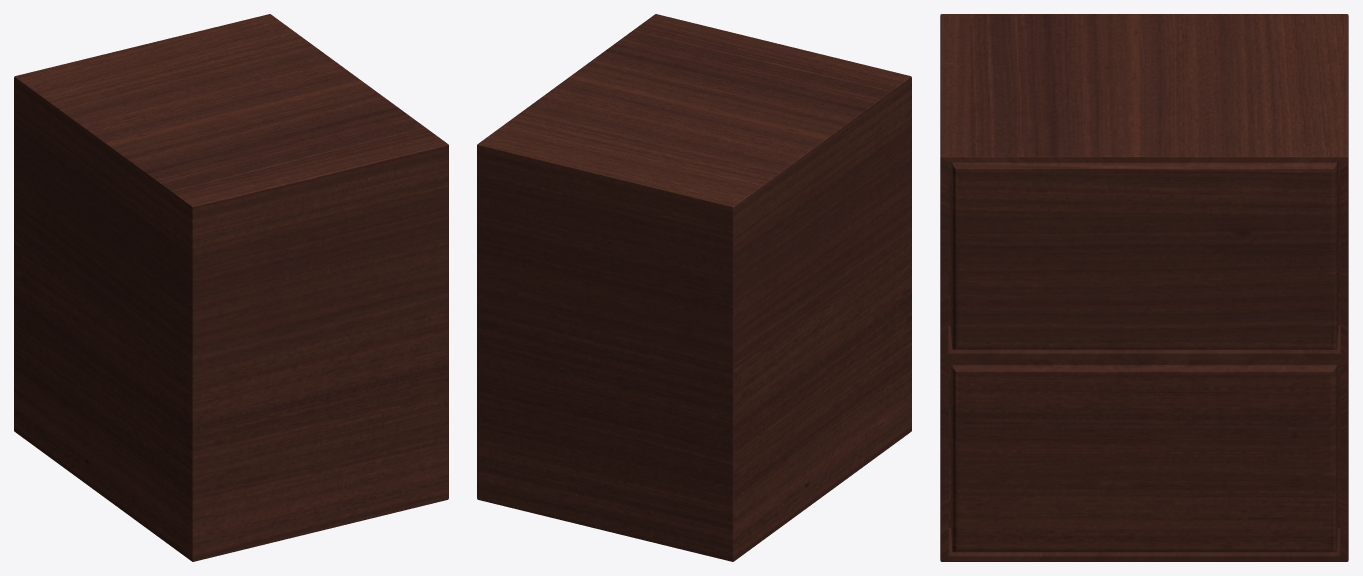
Rendered from shelf2.fbx.
3 views of the same model, side by side, from view 1: azimuth 30°, elevation 25°; view 2: azimuth 150°, elevation 25°; view 3: azimuth 270°, elevation 25° (orthographic). The views are drawn at different scales.
Parts seen in each view (by area): view 1: shelf2; view 2: shelf2; view 3: shelf2.
Part boxes in pixels (box(x1,y1,x2,y2)): shelf2: box(14, 14, 448, 561); shelf2: box(477, 14, 911, 561); shelf2: box(940, 14, 1348, 561).
Size of the model in its own units: 0.0169 by 0.0221 by 0.0202.
1 material, 1 textured.
